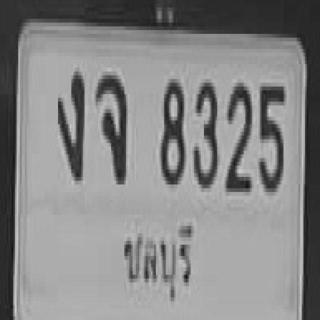A07: (56, 68, 83, 177)
A08: (95, 71, 126, 181)
N02: (224, 79, 250, 188)
N03: (192, 79, 217, 185)
N05: (257, 83, 284, 188)
N08: (159, 75, 184, 181)
P13: (120, 210, 196, 308)
